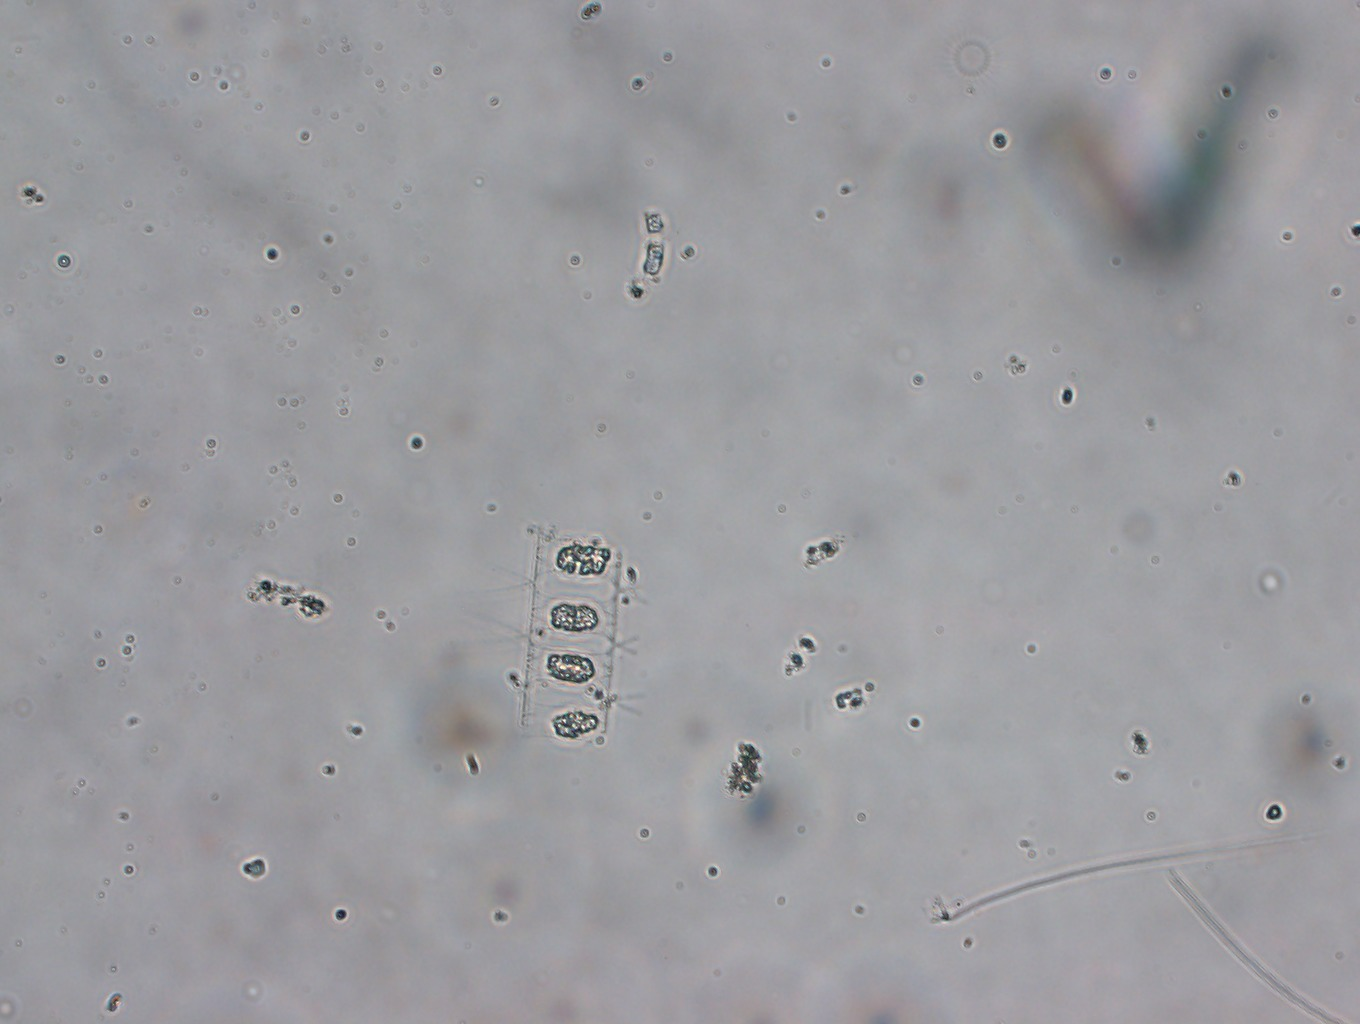chaetoceros: (468, 530, 658, 746)
